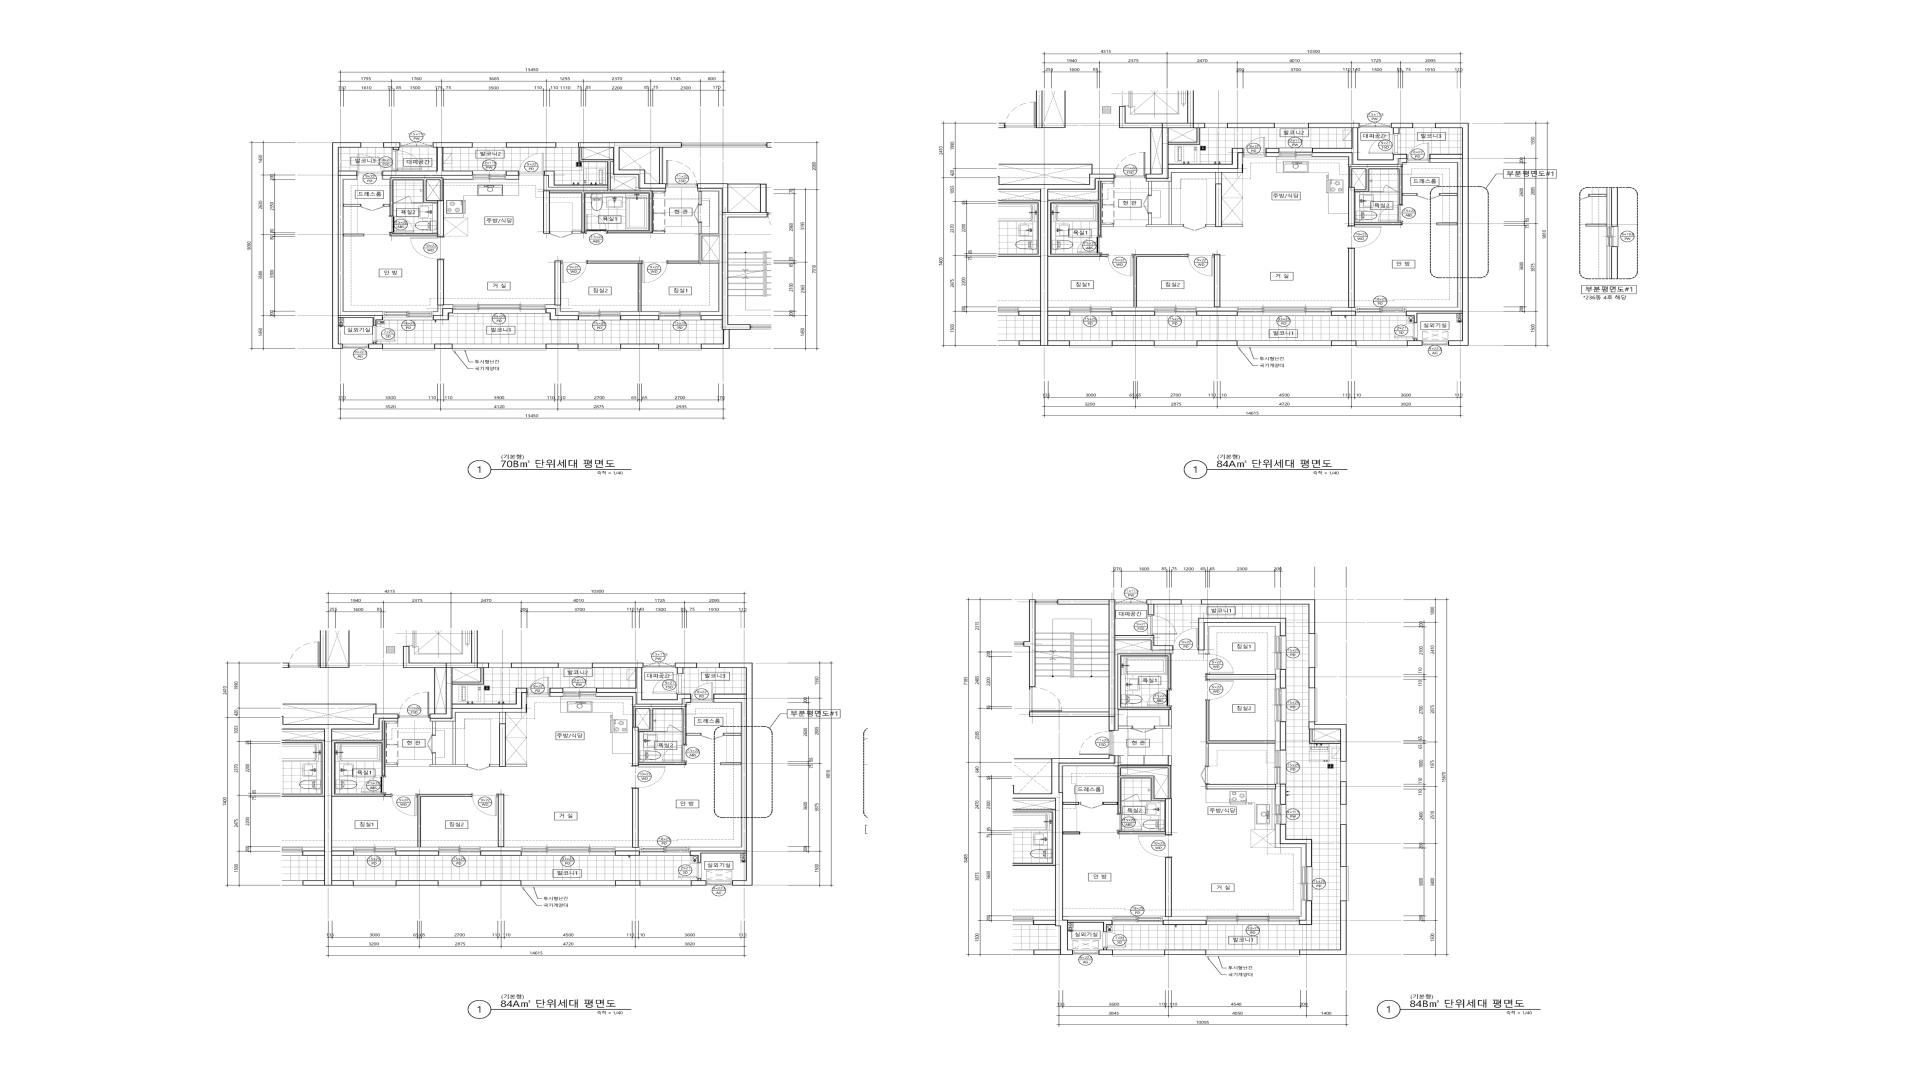door: (666, 160, 698, 187), (1114, 152, 1146, 178), (1029, 687, 1062, 712), (410, 236, 444, 260), (398, 692, 430, 717), (1080, 731, 1112, 756), (1138, 835, 1172, 857), (1349, 225, 1382, 248), (632, 766, 665, 789), (1369, 133, 1399, 154), (390, 794, 418, 816), (393, 150, 422, 171), (653, 674, 683, 694), (472, 794, 498, 816), (1172, 628, 1199, 650), (518, 153, 545, 175), (1205, 679, 1233, 700), (1147, 616, 1176, 636), (642, 261, 667, 284), (1108, 255, 1134, 276), (1188, 255, 1215, 276), (560, 261, 587, 282), (1205, 654, 1233, 674), (357, 154, 382, 175), (526, 676, 550, 696), (1378, 204, 1403, 223), (1244, 137, 1266, 157), (1407, 142, 1429, 162), (691, 683, 713, 703), (585, 214, 608, 233), (1077, 236, 1101, 255), (1118, 814, 1142, 832), (361, 777, 385, 794), (1147, 690, 1171, 707), (662, 745, 686, 762), (390, 216, 414, 233), (1102, 932, 1126, 948), (1395, 323, 1418, 339), (679, 862, 702, 878), (373, 326, 396, 342), (1416, 193, 1440, 199), (1183, 224, 1207, 231), (700, 733, 724, 740), (360, 204, 384, 211), (1080, 802, 1102, 808), (1133, 727, 1155, 733), (550, 231, 572, 237), (1143, 195, 1151, 214), (427, 735, 435, 753), (1201, 766, 1209, 785), (1121, 794, 1139, 802), (694, 204, 702, 223), (1383, 185, 1399, 193), (393, 196, 411, 203), (467, 765, 489, 770), (667, 725, 683, 732)
wall: (1029, 600, 1172, 731), (690, 663, 753, 886), (1406, 123, 1469, 345), (324, 713, 398, 886), (1040, 174, 1114, 345), (543, 142, 682, 233), (1055, 756, 1116, 955), (698, 183, 767, 349), (332, 142, 382, 349), (402, 646, 526, 719), (1120, 107, 1244, 179), (1406, 158, 1462, 311), (690, 699, 746, 851), (1146, 153, 1244, 227), (430, 692, 526, 766), (339, 175, 382, 315), (1102, 766, 1172, 835), (1205, 700, 1275, 766), (1116, 650, 1172, 731), (1308, 123, 1407, 165), (592, 663, 691, 704), (1201, 600, 1315, 634), (1349, 166, 1403, 227), (632, 707, 686, 766), (390, 178, 444, 236), (698, 189, 721, 315), (1117, 654, 1171, 709), (382, 142, 472, 175), (418, 794, 472, 847), (1134, 255, 1188, 307), (587, 261, 642, 311), (1199, 618, 1286, 650), (1199, 622, 1280, 654), (1300, 901, 1346, 955), (1059, 756, 1118, 793), (611, 162, 666, 191), (1308, 723, 1346, 762), (1280, 824, 1312, 866), (1275, 824, 1305, 866), (596, 694, 691, 707), (1312, 153, 1407, 166), (543, 175, 608, 191), (332, 719, 398, 732), (1048, 179, 1114, 191), (1029, 600, 1035, 687), (1146, 600, 1182, 616), (702, 236, 719, 261), (1168, 128, 1197, 142), (546, 309, 579, 320), (1166, 857, 1172, 916), (632, 789, 638, 848), (1205, 785, 1276, 790), (1205, 674, 1276, 679), (452, 669, 480, 682), (382, 175, 472, 179), (497, 794, 504, 847), (546, 305, 579, 315), (1299, 901, 1312, 926), (1155, 709, 1171, 729), (1349, 248, 1354, 307), (1352, 169, 1366, 190), (438, 260, 444, 306), (554, 261, 560, 306), (426, 181, 440, 200), (636, 709, 650, 729), (1216, 183, 1222, 227), (1340, 824, 1346, 866), (1215, 255, 1220, 307), (506, 142, 556, 148), (510, 663, 558, 669), (1228, 123, 1275, 128), (675, 663, 698, 674), (1391, 123, 1414, 133), (433, 309, 452, 320), (1112, 311, 1155, 316), (396, 851, 439, 856), (1163, 920, 1207, 926), (396, 881, 438, 886), (500, 724, 505, 766), (1112, 340, 1154, 345), (1196, 311, 1237, 316), (480, 851, 521, 856), (1164, 949, 1205, 955), (481, 881, 521, 886), (1197, 340, 1237, 345), (433, 305, 452, 315), (620, 315, 659, 320), (1063, 916, 1113, 920), (621, 344, 658, 349), (1112, 307, 1155, 311), (396, 847, 439, 851), (1163, 916, 1207, 920), (546, 344, 578, 349), (1196, 307, 1237, 311), (480, 847, 521, 851), (620, 311, 659, 315), (1275, 721, 1280, 750), (1280, 721, 1286, 750), (1340, 782, 1346, 804), (1308, 667, 1315, 688), (384, 142, 401, 150), (615, 851, 640, 856), (1299, 901, 1305, 920), (616, 881, 640, 886), (691, 878, 707, 886), (1332, 311, 1356, 316), (1332, 340, 1356, 345), (368, 342, 382, 349), (1275, 785, 1280, 804), (1280, 785, 1286, 804), (1407, 339, 1423, 345), (615, 847, 640, 851), (1275, 670, 1280, 688), (1280, 670, 1286, 688), (434, 344, 452, 349), (1098, 948, 1113, 955), (1332, 307, 1356, 311), (659, 148, 662, 183), (667, 261, 699, 264), (1048, 307, 1069, 311), (332, 847, 353, 851), (1266, 148, 1279, 153), (1150, 128, 1151, 174), (434, 669, 435, 713), (1222, 224, 1244, 227), (505, 171, 518, 175), (1266, 153, 1279, 157), (550, 688, 563, 692), (550, 692, 563, 696), (505, 175, 518, 179), (728, 183, 761, 185), (686, 733, 700, 736), (1101, 224, 1114, 227), (653, 231, 665, 233), (505, 765, 527, 766), (1168, 756, 1171, 766), (1207, 224, 1216, 227), (572, 231, 582, 233), (1403, 194, 1416, 195), (1370, 191, 1383, 193), (384, 204, 390, 207), (385, 765, 397, 766), (1139, 800, 1150, 802), (489, 765, 500, 766), (653, 732, 667, 732), (411, 203, 422, 203)
window: (1237, 307, 1332, 316), (452, 305, 546, 314), (521, 847, 615, 856), (1207, 916, 1299, 926), (1237, 340, 1332, 347), (1205, 949, 1300, 956), (521, 881, 616, 887), (452, 344, 546, 351), (382, 311, 433, 320), (1356, 307, 1406, 316), (1113, 916, 1163, 926), (640, 847, 690, 856), (1069, 307, 1112, 316), (353, 847, 396, 856), (1155, 307, 1196, 316), (439, 847, 480, 856), (579, 311, 620, 320), (659, 311, 700, 320), (1275, 636, 1286, 670), (1275, 750, 1286, 785), (1302, 866, 1312, 901), (1275, 688, 1286, 721), (382, 344, 435, 351), (1113, 949, 1164, 956), (640, 881, 691, 887), (1356, 340, 1407, 347), (1340, 866, 1349, 901), (1308, 688, 1317, 723), (1279, 148, 1312, 157), (1308, 634, 1317, 667), (1154, 340, 1197, 347), (438, 881, 481, 887), (658, 344, 702, 351), (578, 344, 621, 351), (1069, 340, 1112, 347), (353, 881, 396, 887), (472, 171, 506, 179), (563, 688, 596, 696), (400, 141, 433, 148), (1275, 804, 1286, 824), (558, 663, 592, 669), (472, 142, 506, 148), (1275, 123, 1308, 128), (1360, 123, 1391, 128), (644, 662, 675, 667), (1116, 599, 1146, 604), (343, 344, 368, 349), (1340, 804, 1346, 824), (1340, 762, 1346, 782), (1205, 123, 1228, 128), (556, 142, 579, 148), (361, 142, 384, 148), (1414, 123, 1435, 128), (1423, 342, 1448, 345), (1073, 951, 1098, 955), (707, 881, 732, 885), (1035, 600, 1058, 604), (698, 663, 719, 667), (489, 663, 510, 667), (1182, 600, 1201, 604)
